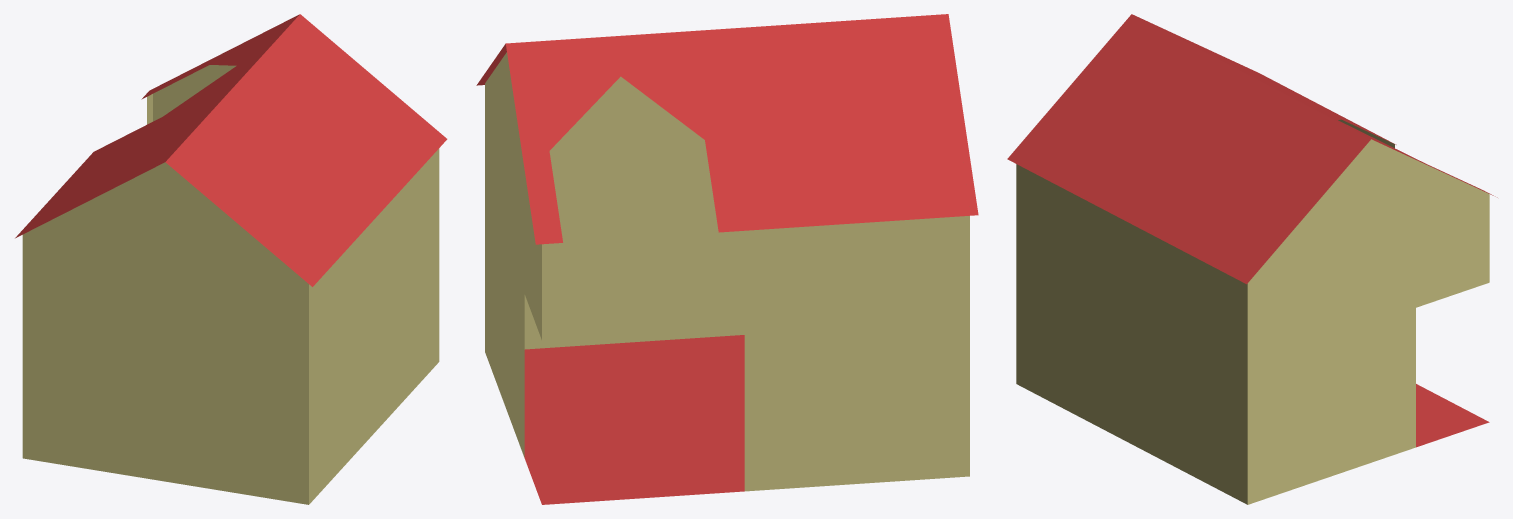
3 views of the same model, side by side, from view 1: azimuth 30°, elevation 25°; view 2: azimuth 150°, elevation 25°; view 3: azimuth 270°, elevation 25° (orthographic). The views are drawn at different scales.
Bounding box in the file's own units: 19.54 × 19.21 × 14.1.
